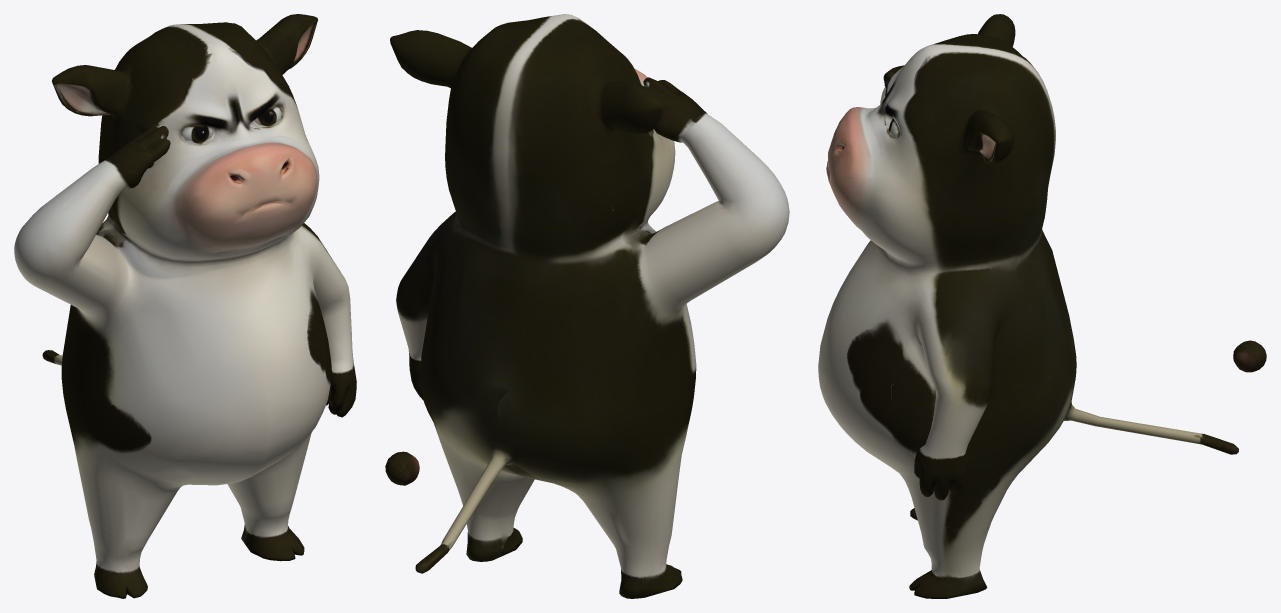
The model's file is cow.glb.
3 views of the same model, side by side, from view 1: azimuth 30°, elevation 25°; view 2: azimuth 150°, elevation 25°; view 3: azimuth 270°, elevation 25° (orthographic). The views are drawn at different scales.
Visible parts, largest first — view 1: material; view 2: material; view 3: material.
Part boxes in pixels (x1,y1,x2,y2): material: (14,14,356,598); material: (385,14,789,598); material: (818,14,1266,598).
Size of the model in its own units: 1.33 by 1.9 by 1.51.
Materials: 1 (1 with a texture image).
